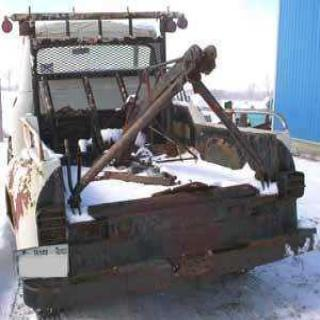Towing_truck: (0, 5, 316, 314)
